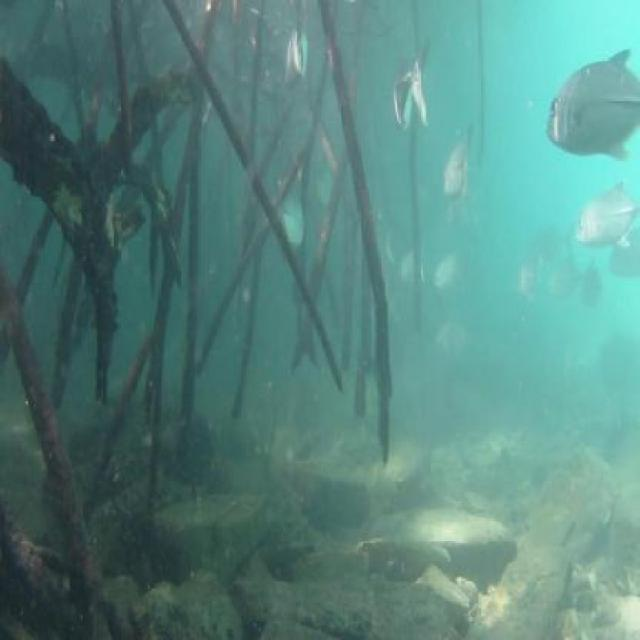Caranx_sexfasciatus_juvenile: (544, 34, 640, 168), (381, 38, 432, 153), (577, 173, 635, 259), (436, 135, 484, 222), (275, 11, 314, 103), (272, 173, 305, 267), (308, 155, 344, 236), (432, 238, 472, 308), (530, 212, 572, 266), (436, 307, 473, 368), (392, 238, 423, 302), (607, 229, 640, 286), (568, 266, 604, 317), (548, 260, 578, 318), (378, 215, 404, 278), (515, 259, 540, 324)
